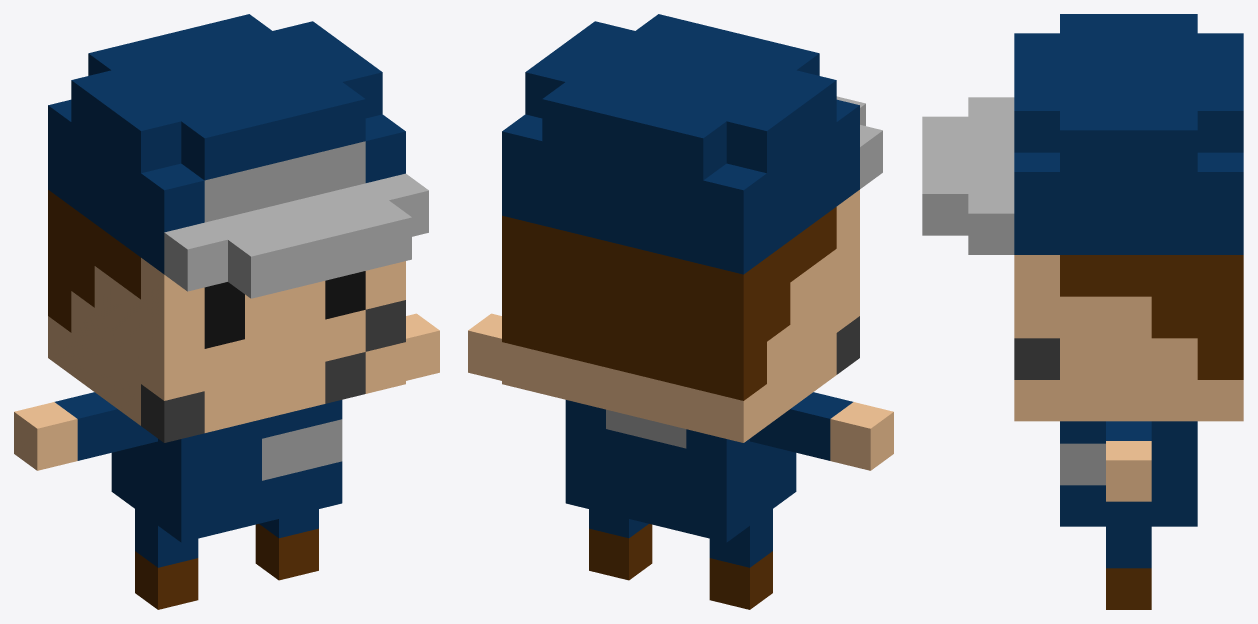
The picture shows the model from 3 angles, left to right: view 1: azimuth 30°, elevation 25°; view 2: azimuth 150°, elevation 25°; view 3: azimuth 270°, elevation 25°; orthographic projection.
Visible parts, largest first — view 1: Object_0; view 2: Object_0; view 3: Object_0.
Part boxes in pixels (x1,y1,x2,y2): Object_0: (14,14,439,609); Object_0: (468,14,893,609); Object_0: (922,14,1243,609).
Size of the model in its own units: 1.33 by 1.6 by 0.9333.
Materials: 1 (1 with a texture image).
